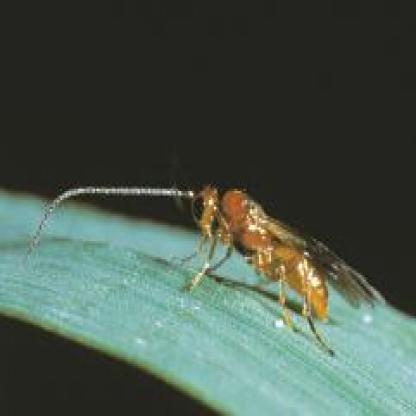sawfly: (39, 174, 385, 356)
